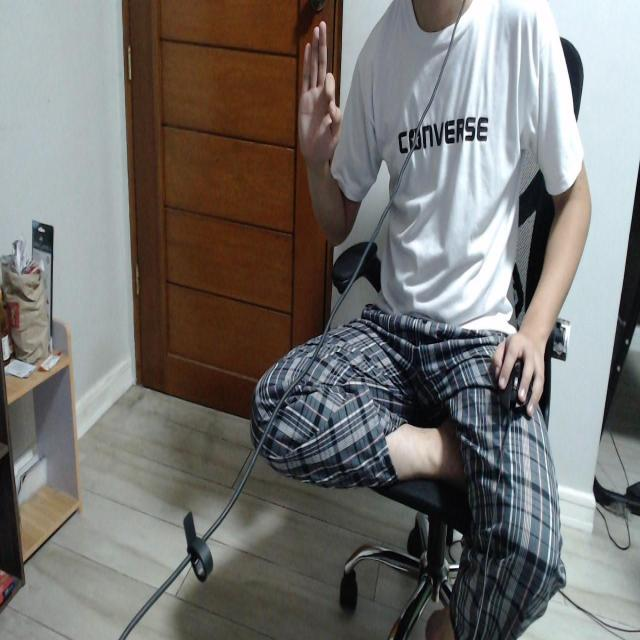F: (298, 22, 342, 158)
